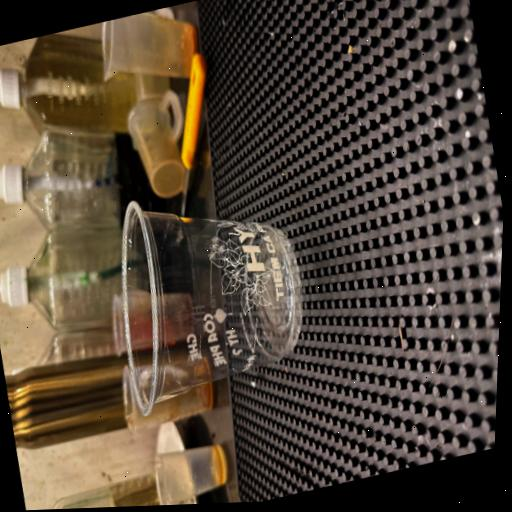ly_nhua: (122, 201, 302, 413)
